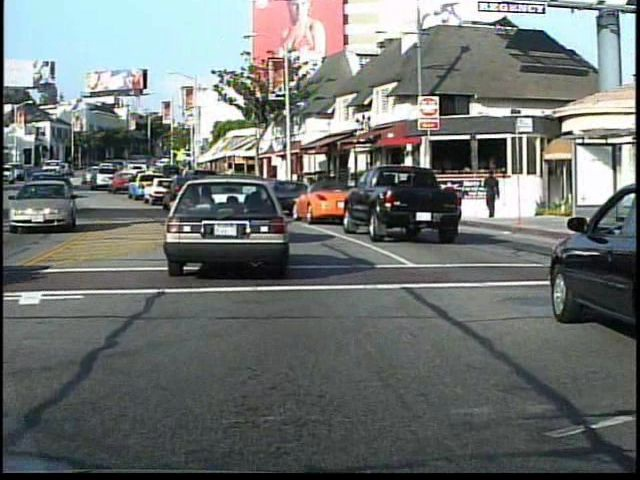person: (480, 169, 500, 223)
